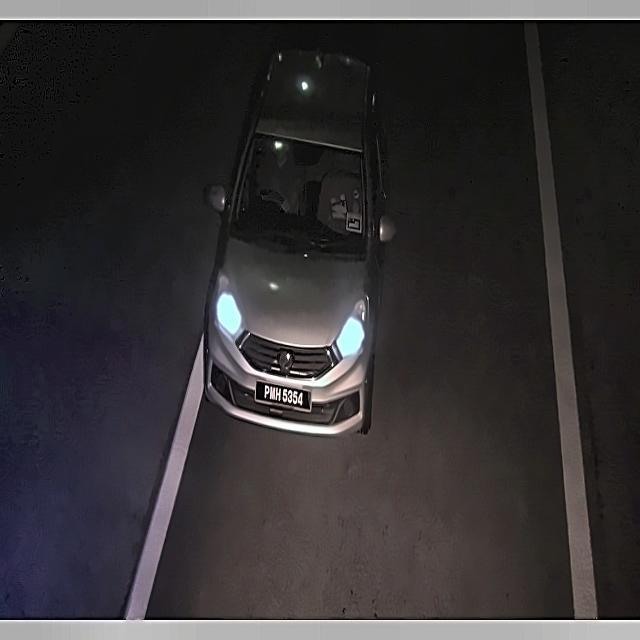car: (252, 373, 317, 418)
